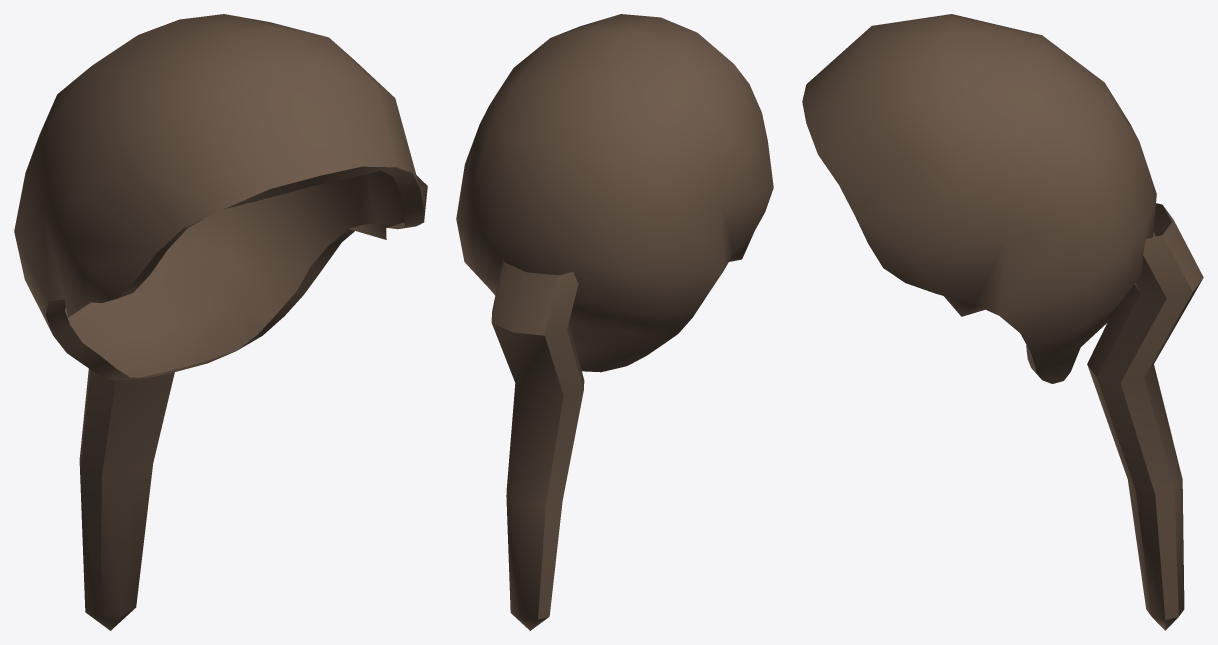
Rendered from hair_f2.glb.
3 views of the same model, side by side, from view 1: azimuth 30°, elevation 25°; view 2: azimuth 150°, elevation 25°; view 3: azimuth 270°, elevation 25° (orthographic). The views are drawn at different scales.
Parts seen in each view (by area): view 1: Hair_f2; view 2: Hair_f2; view 3: Hair_f2.
Part boxes in pixels (box(x1,y1,x2,y2)): Hair_f2: box(14, 14, 427, 630); Hair_f2: box(456, 14, 773, 630); Hair_f2: box(802, 14, 1203, 630).
Size of the model in its own units: 0.2155 by 0.4167 by 0.2522.
